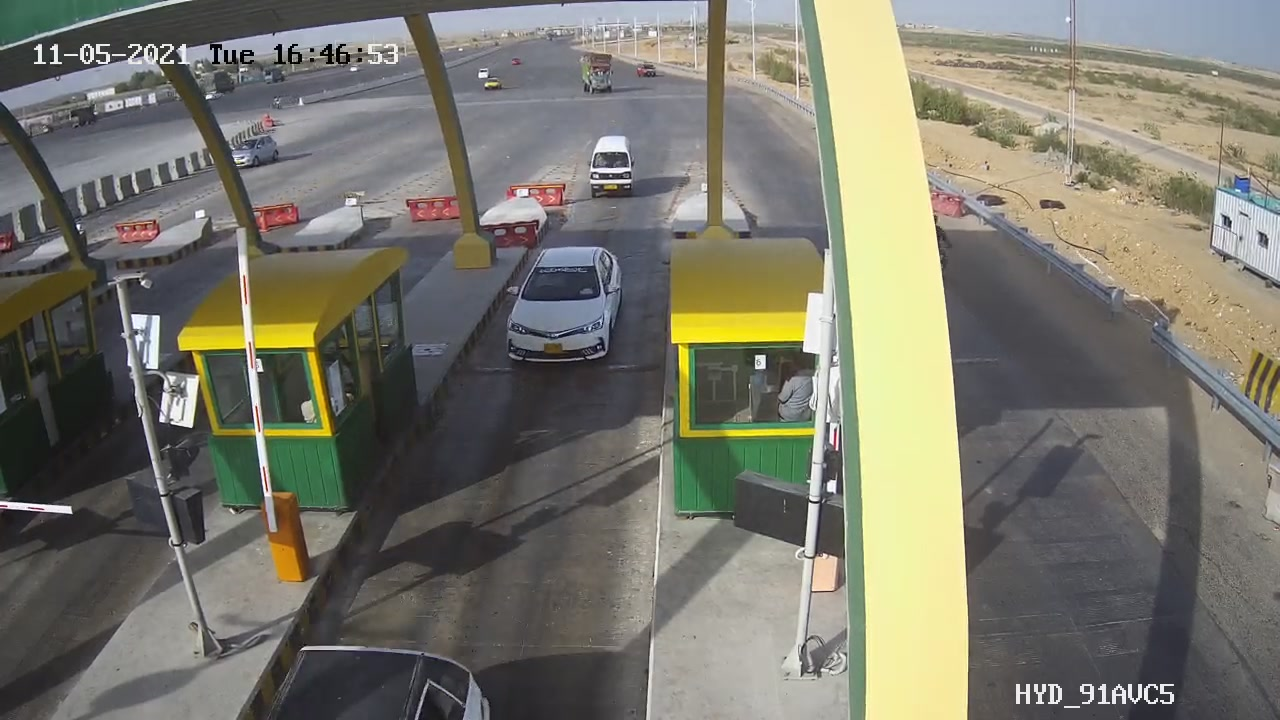F1: (484, 231, 645, 385)
